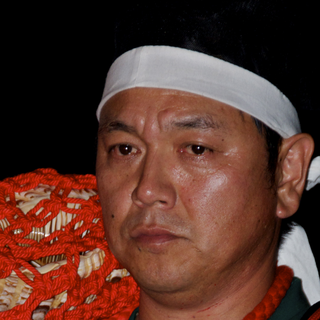eye: (172, 138, 217, 165), (100, 138, 144, 163)
